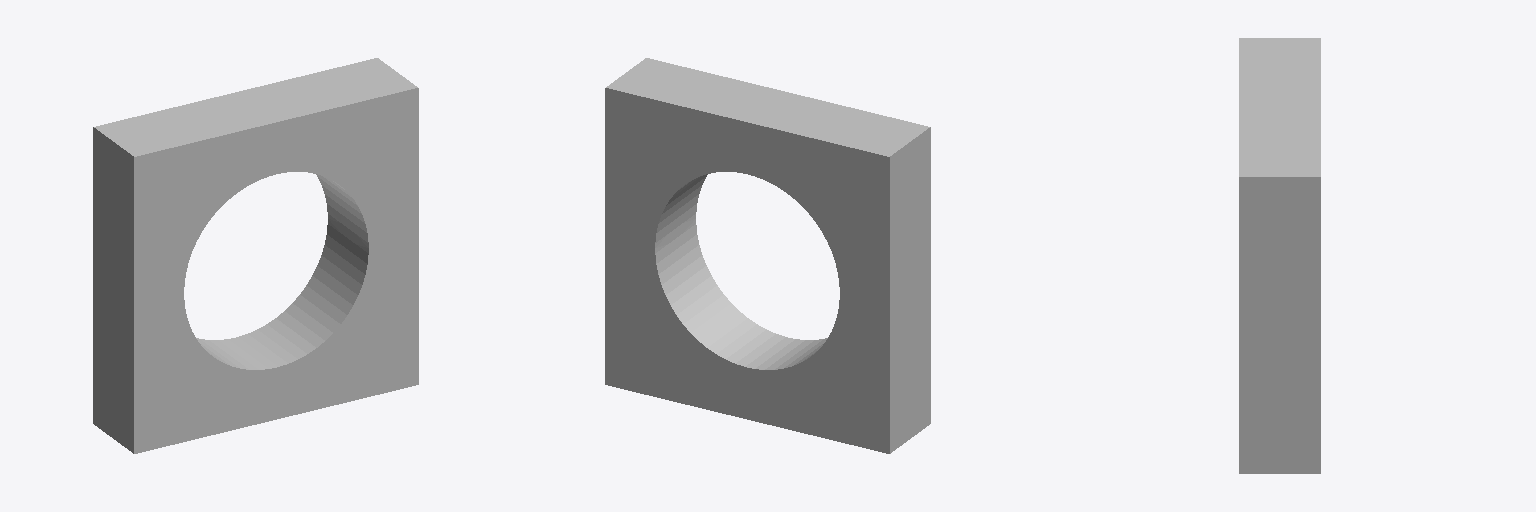
Rendered from socket.obj.
3 views of the same model, side by side, from view 1: azimuth 30°, elevation 25°; view 2: azimuth 150°, elevation 25°; view 3: azimuth 270°, elevation 25° (orthographic).
Bounding box in the file's own units: 0.08 × 0.08 × 0.02.